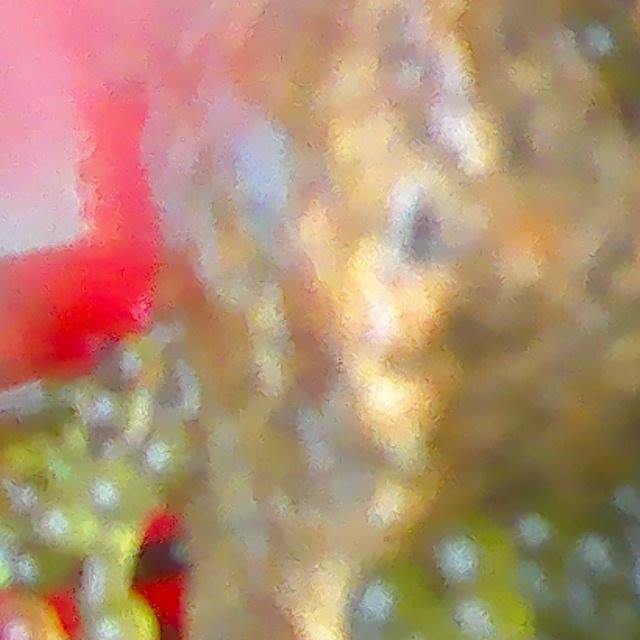SeaGrape: (431, 516, 511, 590), (353, 568, 426, 640), (457, 579, 541, 640)
